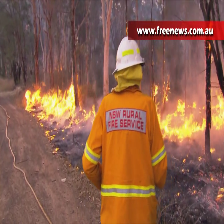fire_h: (156, 99, 206, 141), (24, 82, 74, 121), (211, 90, 224, 131)
fire_l: (80, 103, 95, 125), (61, 118, 83, 131), (162, 80, 170, 102), (44, 129, 55, 140), (216, 186, 224, 201), (153, 84, 158, 96), (191, 100, 196, 108), (209, 147, 215, 153), (39, 122, 44, 128), (53, 147, 58, 153), (208, 42, 211, 50), (198, 156, 202, 161), (182, 158, 186, 162)
